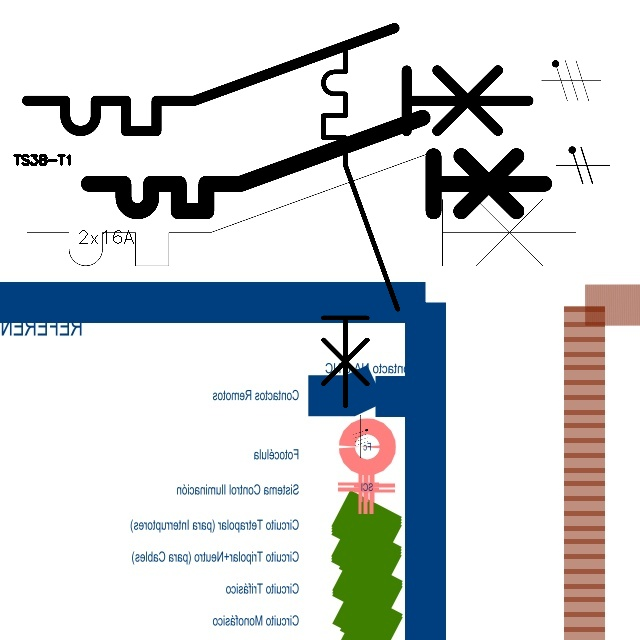interruptor_termomagnetico: (13, 139, 590, 280), (14, 15, 541, 144), (77, 106, 556, 223), (314, 35, 407, 415)
